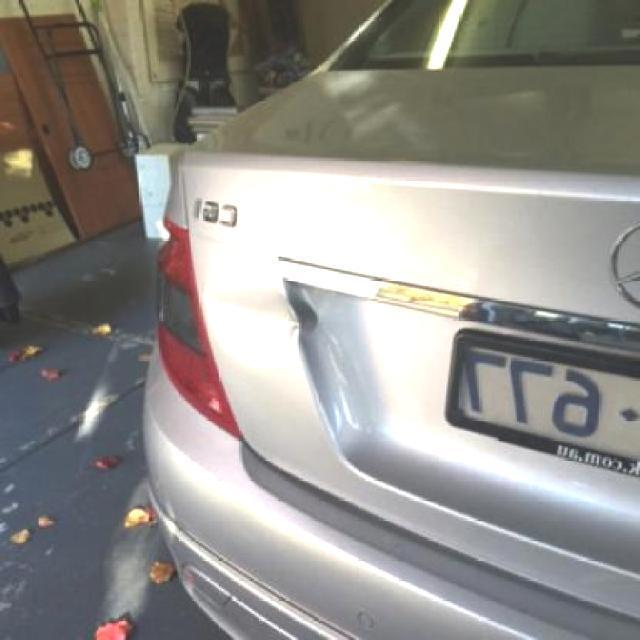minor: (203, 252, 298, 366)
